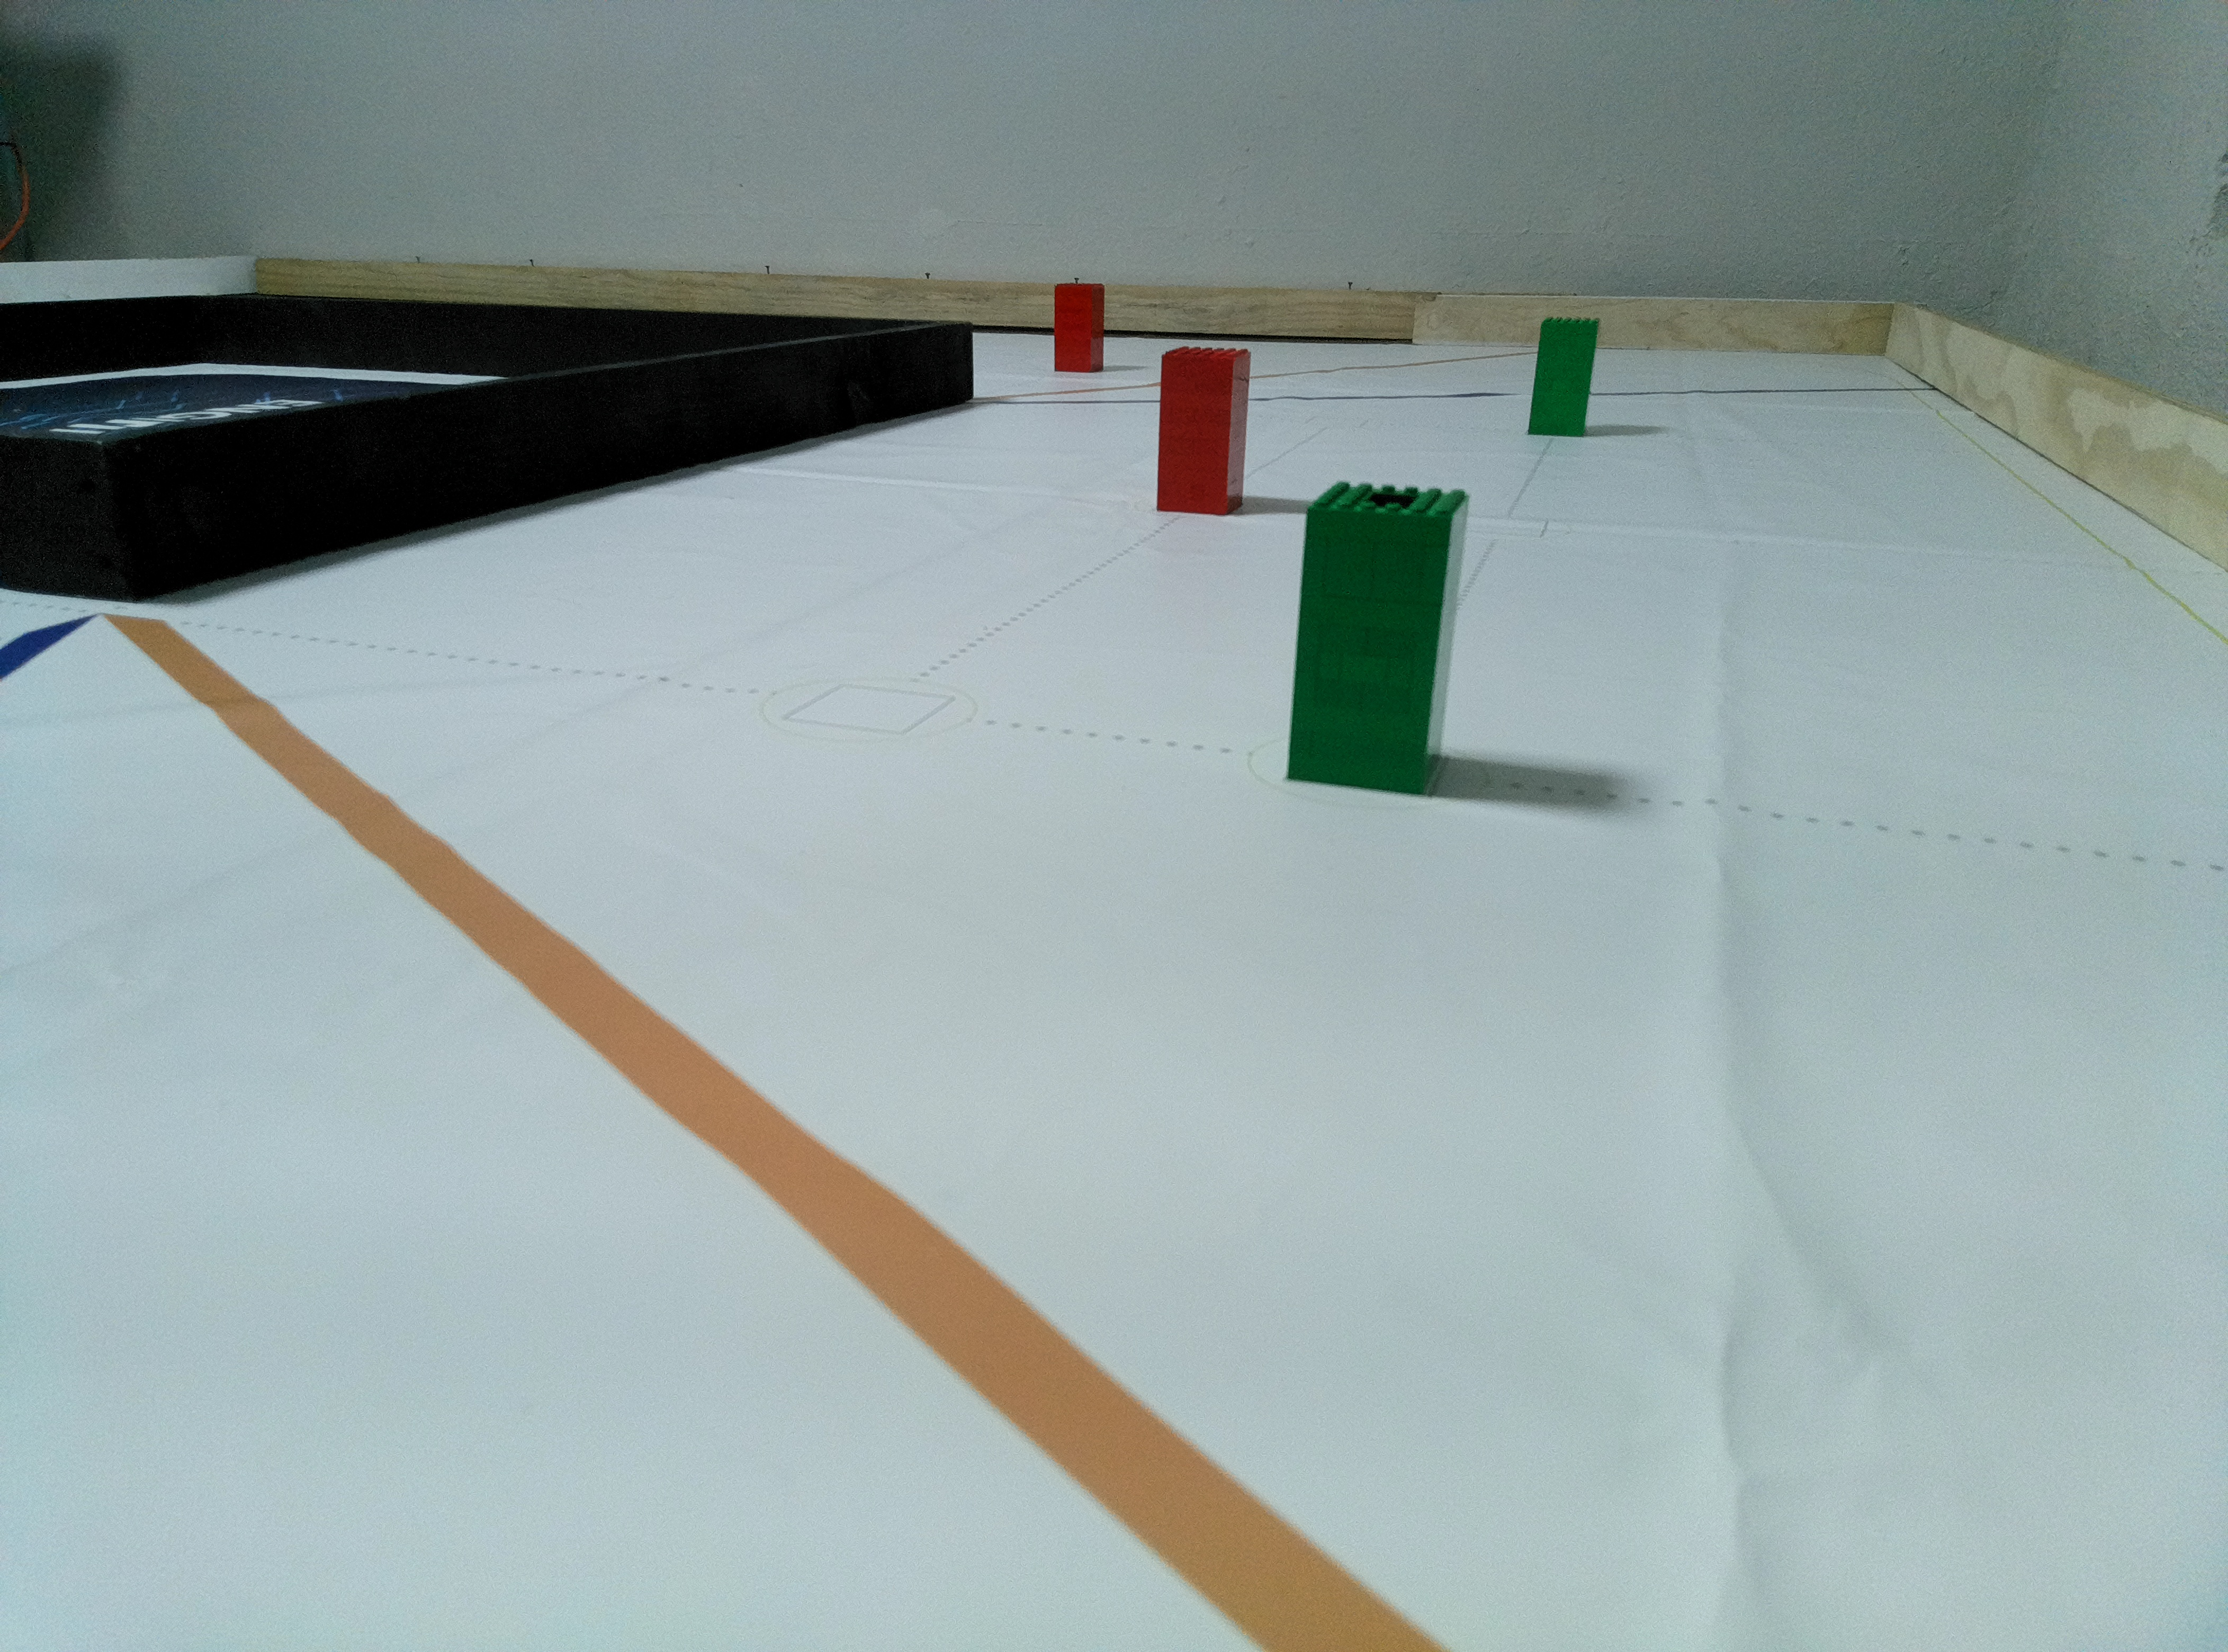greenbox: (1284, 477, 1473, 802), (1525, 314, 1602, 439)
redbox: (1156, 345, 1253, 519), (1053, 281, 1107, 375)
